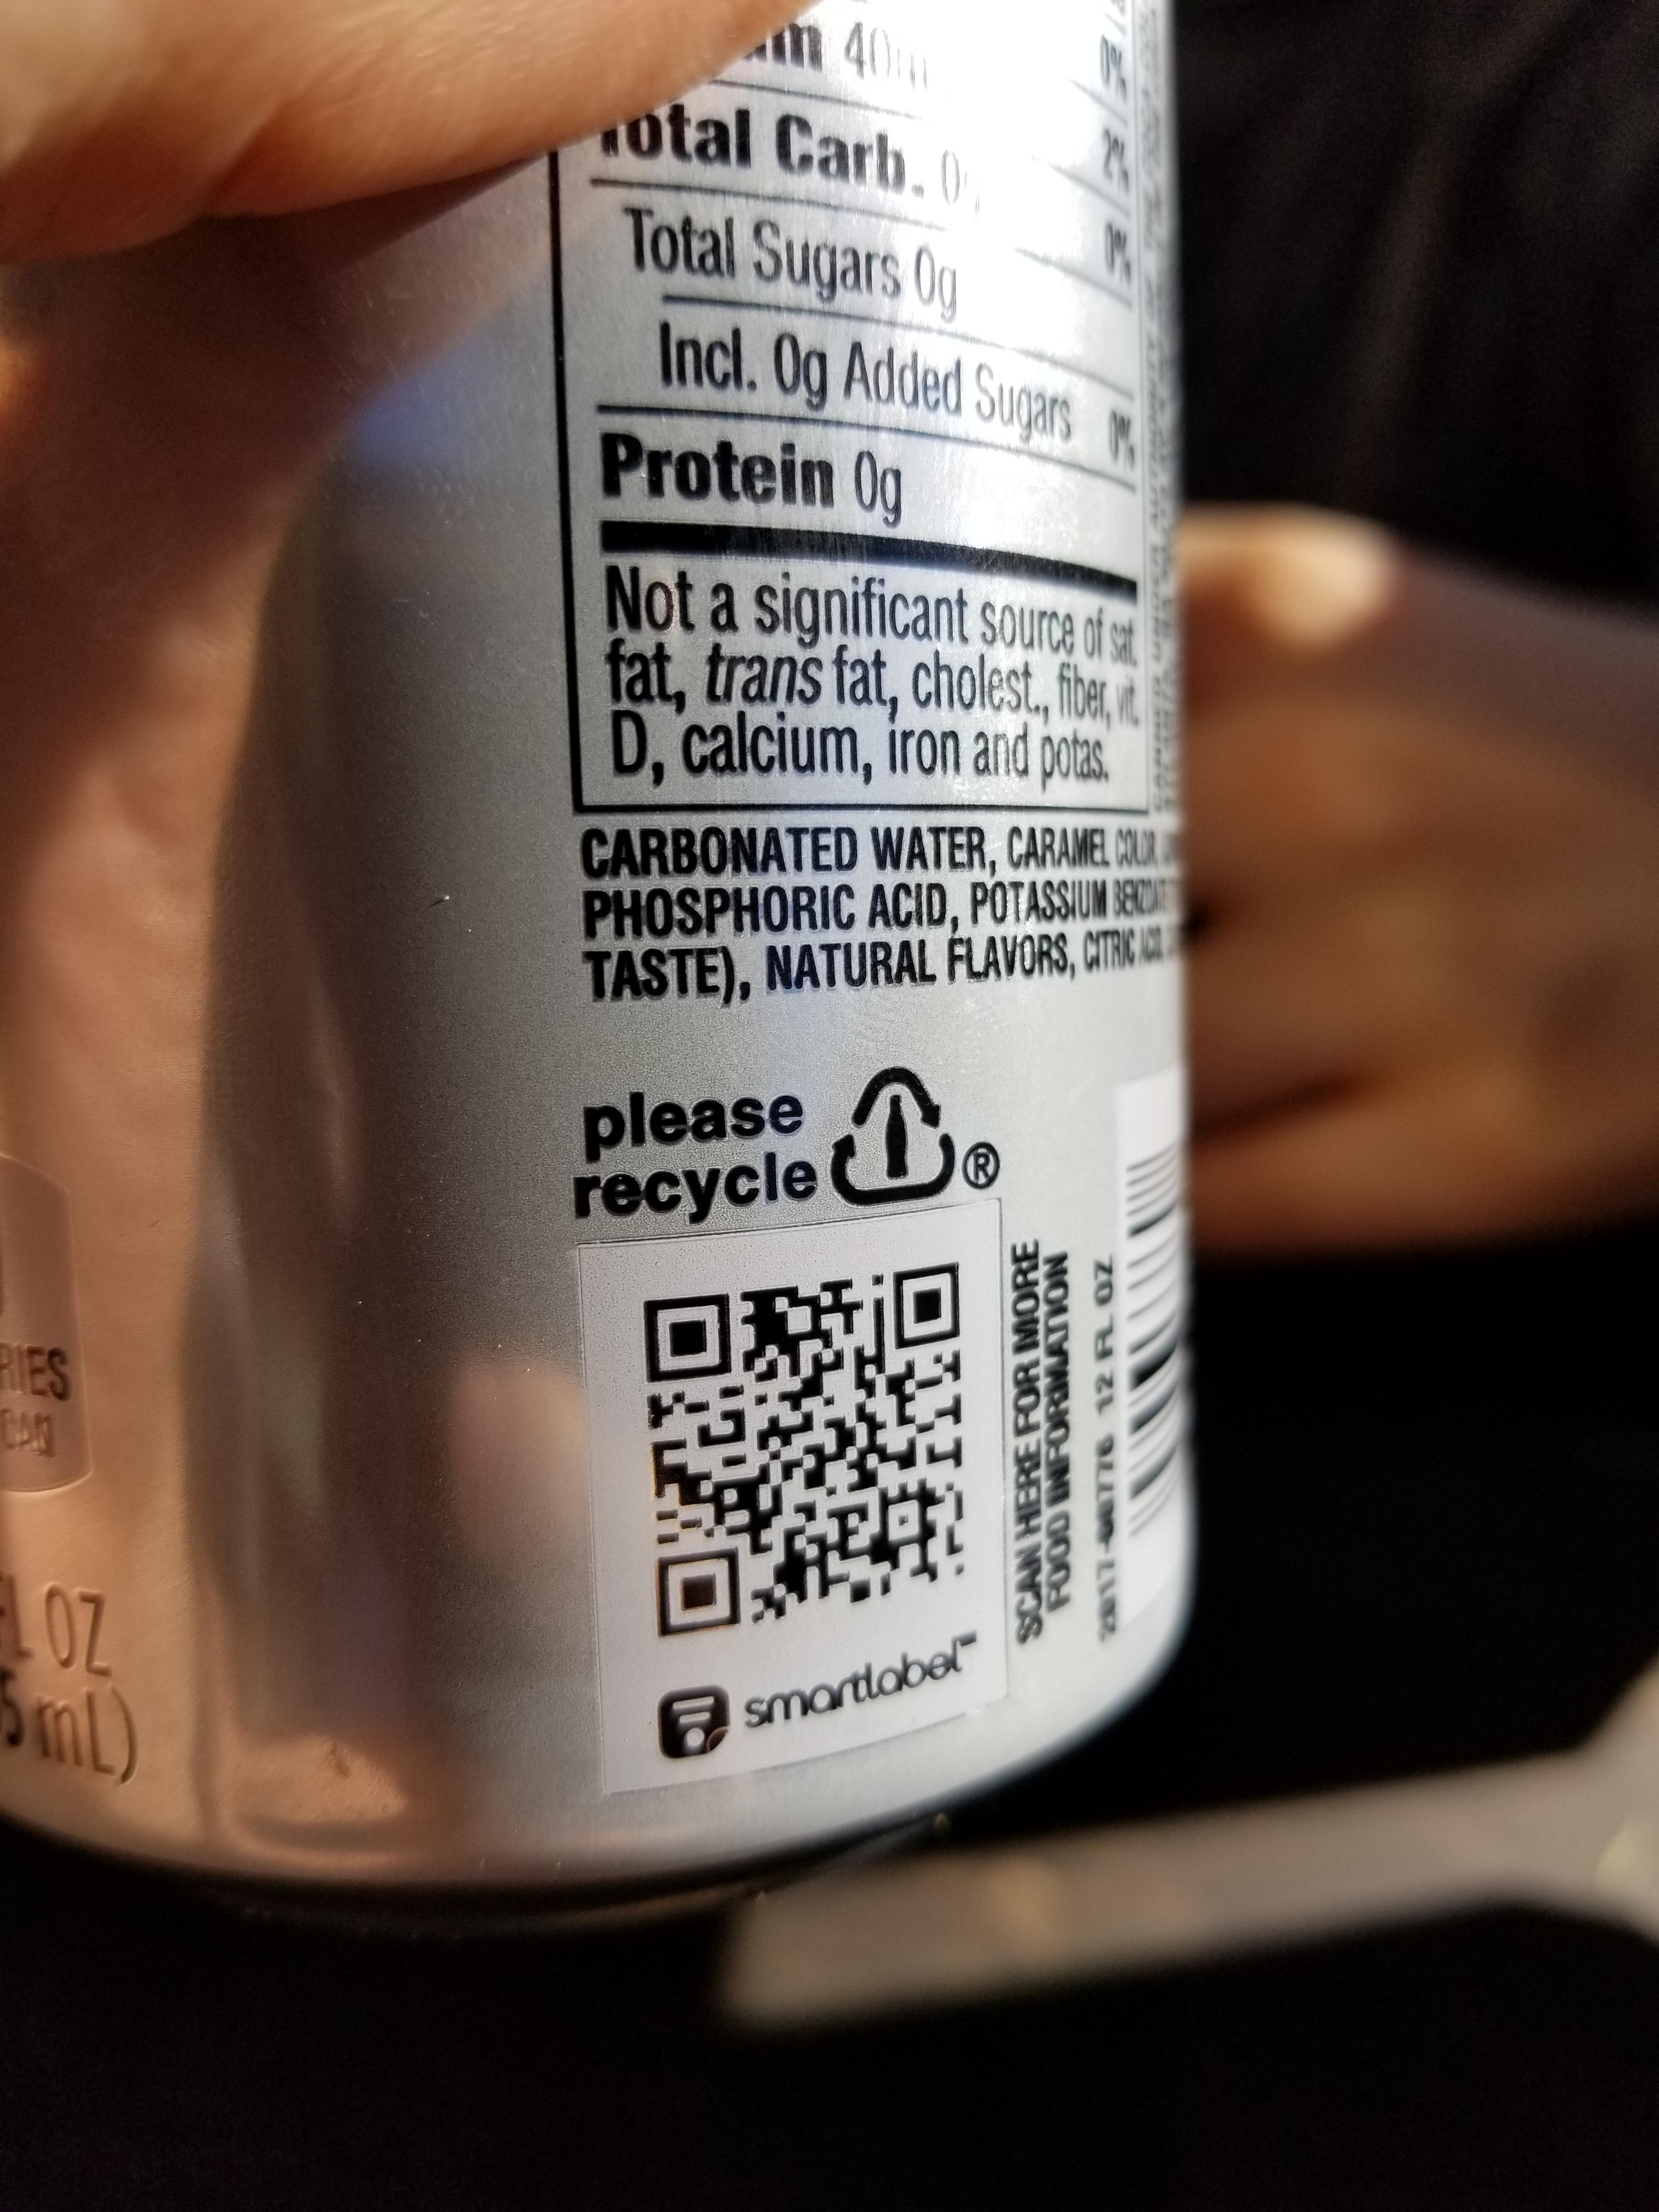QR_CODE: (620, 1224, 1002, 1656)
